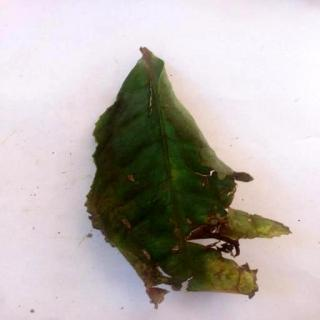Brown Blight: (85, 46, 293, 298)
